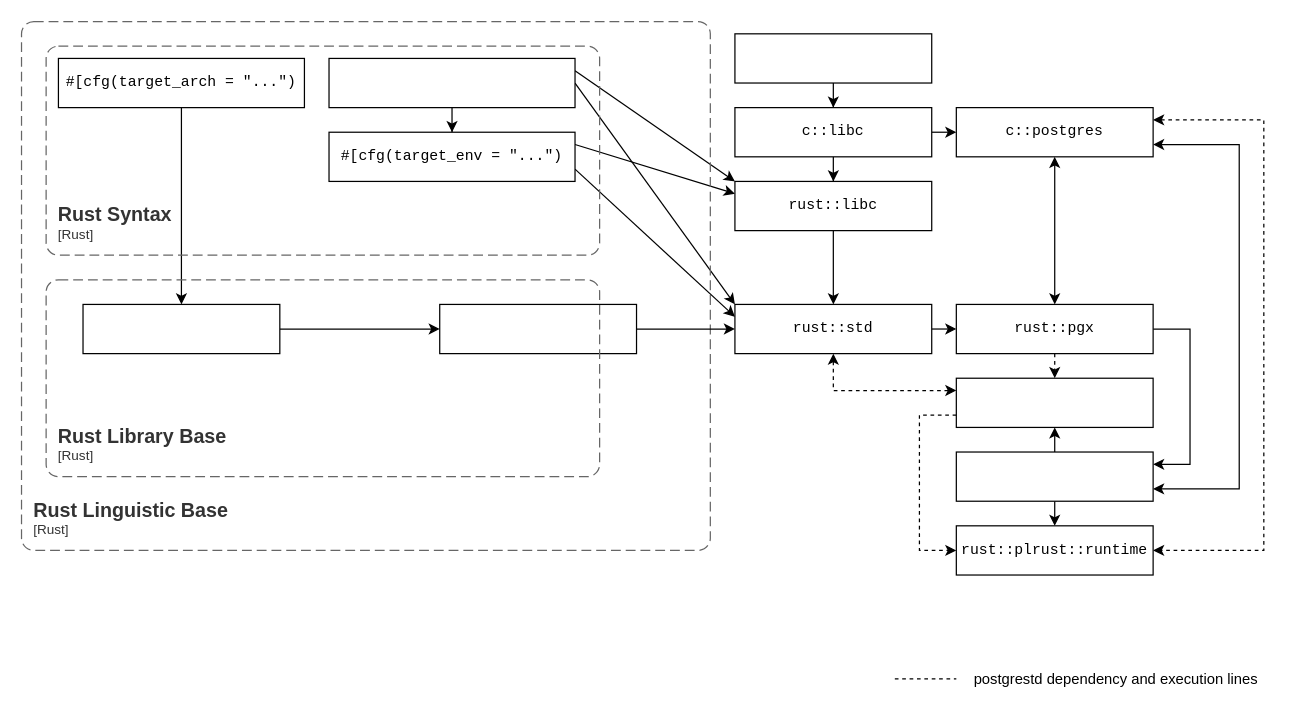
Some shapes in this 1296 by 720 pixel diagram are drawn without their labels. The centre of each missing label's shape, as x and y in pixels:
#[cfg(target_os = "..."): (451,82)
os::syscalls: (833,58)
rust::alloc: (537,328)
rust::core: (181,328)
rust::plrust::builder: (1054,476)
rust::postgrestd: (1054,402)
